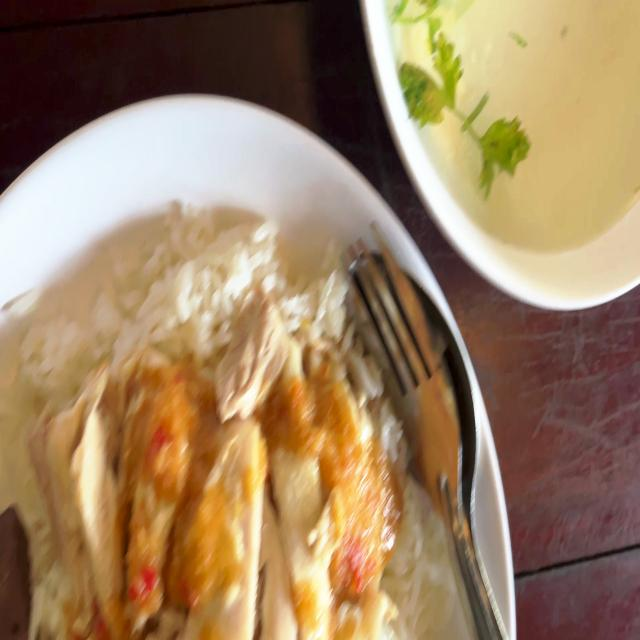boiled_chicken: (38, 303, 389, 640)
boiled_chicken_blood_jelly: (0, 481, 33, 640)
chicken_rice: (0, 215, 419, 640)
